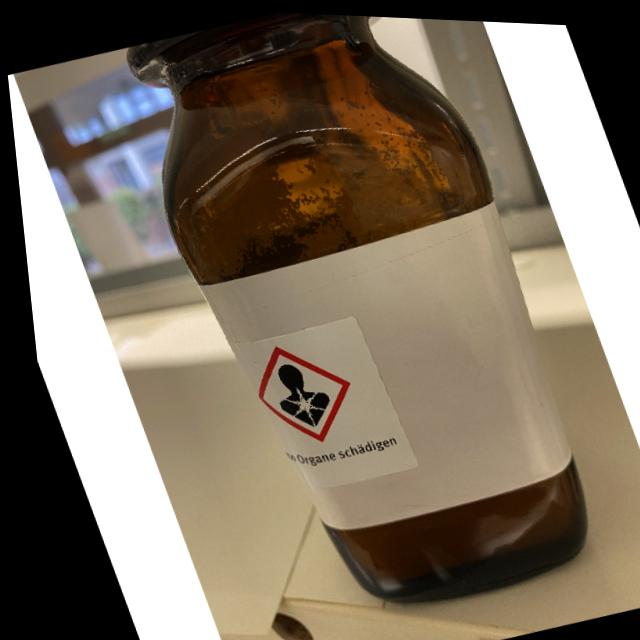serious health hazard: (258, 353, 329, 431)
